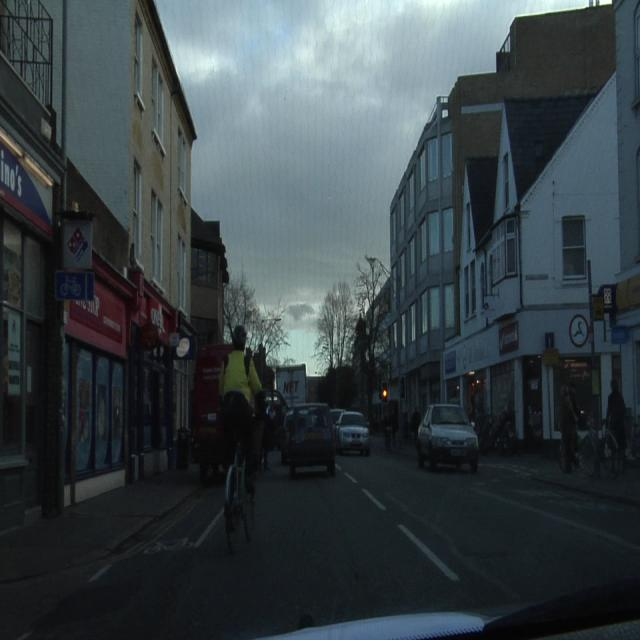Bicyclist: (221, 333, 259, 547)
Building: (1, 4, 226, 531), (410, 0, 634, 450)
Car: (418, 404, 478, 471), (281, 404, 335, 476), (337, 412, 370, 455)
Road: (0, 444, 639, 634)
Tree: (316, 254, 384, 394), (225, 270, 259, 341)
person: (221, 329, 259, 549)
